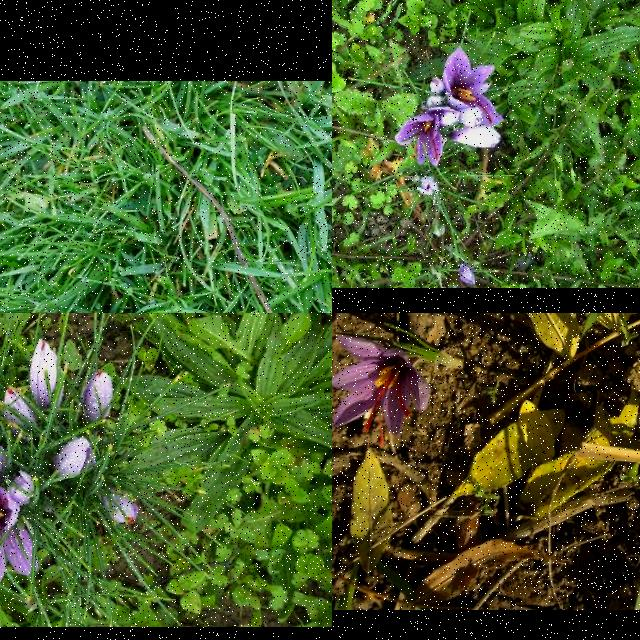flower: (332, 335, 419, 445), (30, 338, 64, 410), (52, 436, 98, 482), (82, 369, 115, 426), (4, 388, 38, 437), (102, 488, 140, 524), (416, 177, 438, 197), (457, 264, 475, 288)
overlap: (396, 46, 504, 166), (0, 466, 40, 597)
